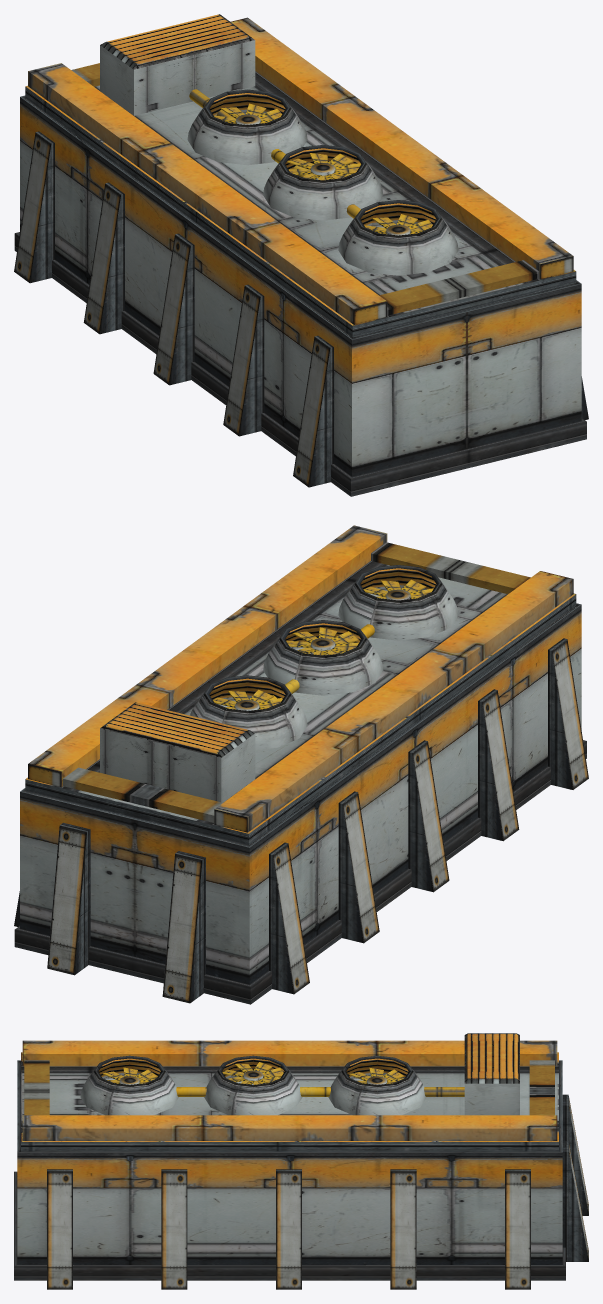
Rendered from laboratorioRETEX.fbx.
3 renders of one model, top to bottom at view 1: azimuth 30°, elevation 25°; view 2: azimuth 150°, elevation 25°; view 3: azimuth 270°, elevation 25°, orthographic. The views are drawn at different scales.
Visible parts, largest first — view 1: Cube.001_Cube.002, Cube.001_Cube.003, Cube.001_Cube.001, Cube.001_Cube.000; view 2: Cube.001_Cube.002, Cube.001_Cube.003, Cube.001_Cube.000, Cube.001_Cube.001; view 3: Cube.001_Cube.002, Cube.001_Cube.003, Cube.001_Cube.001, Cube.001_Cube.000.
Boxes of the visible parts, x1,y1,x2,y2 form: Cube.001_Cube.002: (14,14,588,496); Cube.001_Cube.003: (287,153,360,180); Cube.001_Cube.001: (364,214,432,235); Cube.001_Cube.000: (214,103,282,124); Cube.001_Cube.002: (14,525,588,1004); Cube.001_Cube.003: (286,627,359,655); Cube.001_Cube.000: (212,689,282,710); Cube.001_Cube.001: (363,579,433,600); Cube.001_Cube.002: (14,1033,588,1289); Cube.001_Cube.003: (222,1062,283,1084); Cube.001_Cube.001: (102,1067,157,1084); Cube.001_Cube.000: (349,1067,404,1084).
Bounding box in the file's own units: 6.96 × 5.12 × 15.06.
